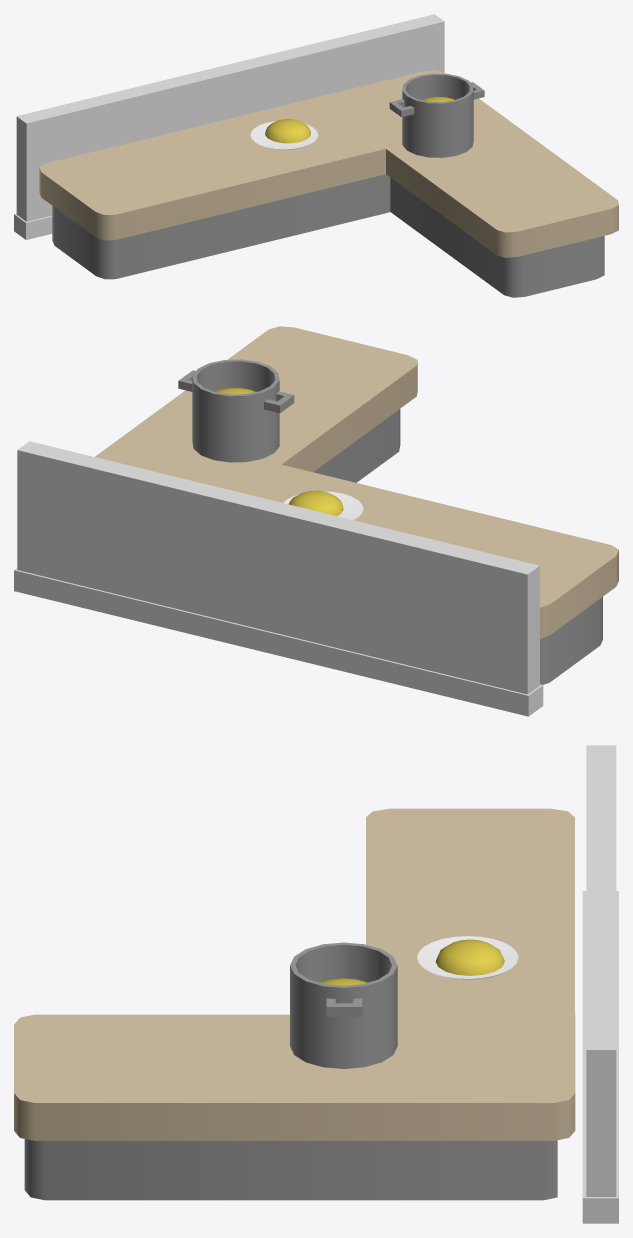
File: FoodZone.fbx
3 views of the same model, one above another, from view 1: azimuth 30°, elevation 25°; view 2: azimuth 150°, elevation 25°; view 3: azimuth 270°, elevation 25° (orthographic). The views are drawn at different scales.
Parts seen in each view (by area): view 1: TableTop, Wall, TableBottom, Pot, Bread, Plate; view 2: Wall, TableTop, Pot, TableBottom, Bread, Plate; view 3: TableTop, TableBottom, Wall, Pot, Bread, Plate.
Boxes of the visible parts, bbox=[...] form: TableTop: bbox=[39, 70, 618, 257]; Wall: bbox=[14, 14, 444, 239]; TableBottom: bbox=[52, 174, 604, 297]; Pot: bbox=[389, 73, 484, 157]; Bread: bbox=[265, 119, 310, 143]; Plate: bbox=[250, 121, 318, 150]; Wall: bbox=[14, 441, 543, 716]; TableTop: bbox=[95, 326, 618, 638]; Pot: bbox=[178, 359, 294, 462]; TableBottom: bbox=[313, 409, 602, 684]; Bread: bbox=[289, 490, 343, 515]; Plate: bbox=[283, 491, 363, 520]; TableTop: bbox=[14, 808, 575, 1140]; TableBottom: bbox=[24, 1139, 557, 1200]; Wall: bbox=[582, 745, 618, 1223]; Pot: bbox=[290, 942, 397, 1068]; Bread: bbox=[435, 939, 504, 975]; Plate: bbox=[417, 936, 518, 980].
Bounding box in the file's own units: 579 × 170 × 482.
